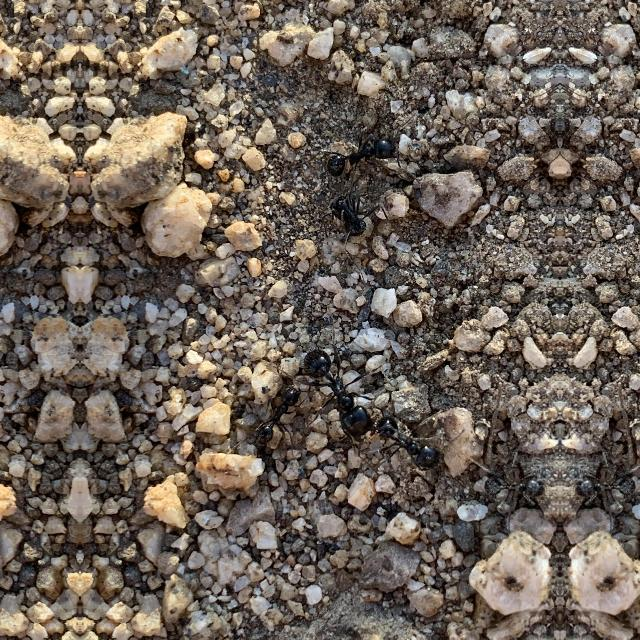Messor: (292, 340, 386, 440), (321, 124, 407, 180), (248, 377, 312, 441), (378, 408, 442, 468), (329, 181, 378, 233)
